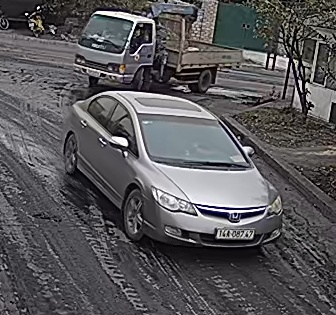vehicle plate: (213, 223, 259, 243)
